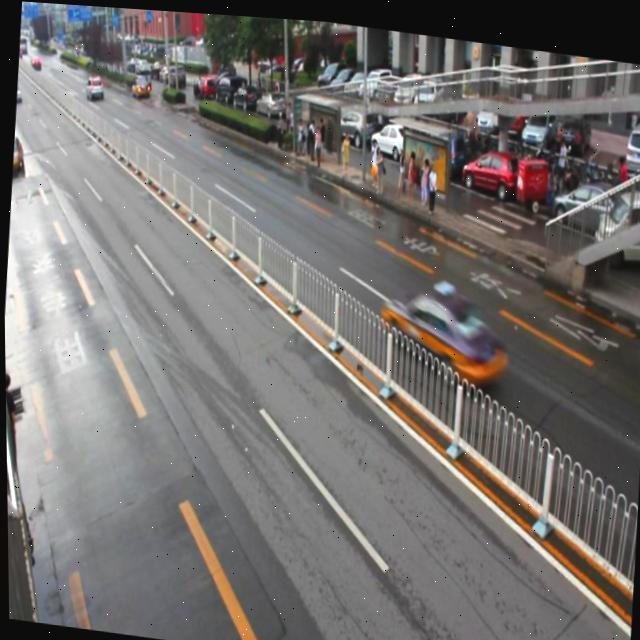car: (373, 261, 510, 386), (12, 135, 24, 177)
